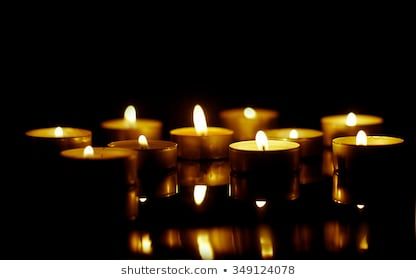Fire: (192, 102, 209, 135), (122, 103, 145, 126), (253, 128, 271, 149), (354, 129, 370, 150), (242, 105, 261, 120), (135, 132, 151, 148), (345, 111, 359, 127), (82, 144, 95, 161), (53, 126, 68, 139), (289, 128, 301, 140)
